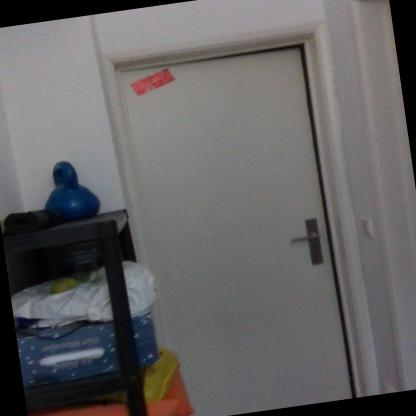closed: (78, 4, 390, 415)
